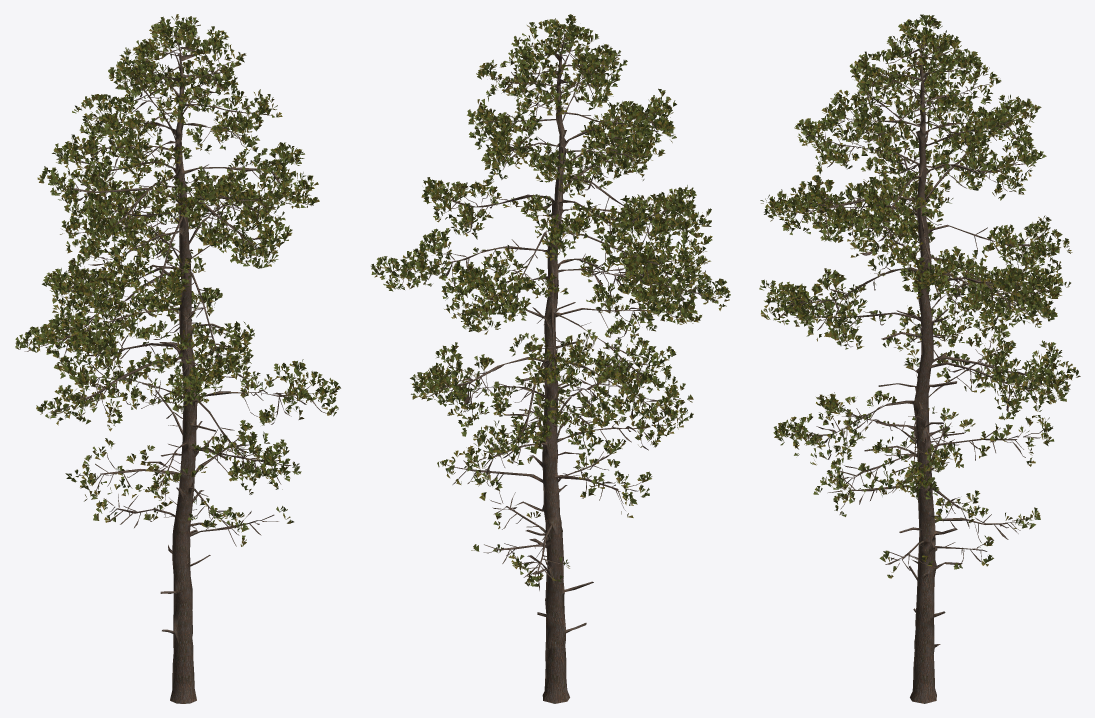
File: Pinus_Pinaster.dae
3 views of the same model, side by side, from view 1: azimuth 30°, elevation 25°; view 2: azimuth 150°, elevation 25°; view 3: azimuth 270°, elevation 25° (orthographic).
Parts seen in each view (by area): view 1: pinus_pinaster; view 2: pinus_pinaster; view 3: pinus_pinaster.
Boxes of the visible parts, x1,y1,x2,y2 form: pinus_pinaster: (15, 14, 340, 703); pinus_pinaster: (371, 14, 730, 703); pinus_pinaster: (759, 14, 1080, 703).
Size of the model in its own units: 6.52 by 6.05 by 14.01.
2 materials, 2 textured.
